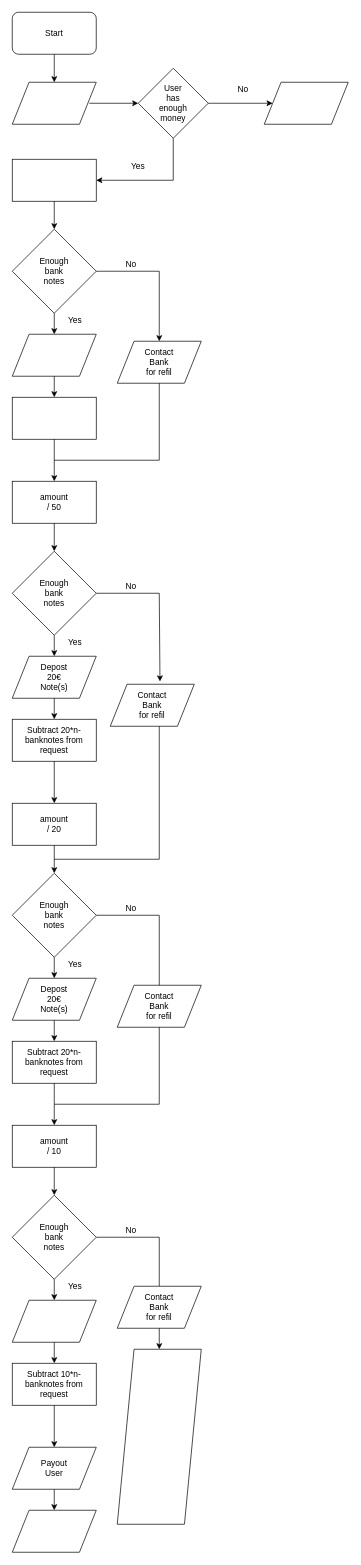
The diagram is 361 pixels wide and 1565 high, and some of its shapes have lost their labels. Here are the shapes that lost their labels. From the top down, the box of each, then its label:
(12, 82, 96, 124): How much money?
(264, 82, 348, 124): Deny User
(12, 159, 96, 201): amount / 100
(12, 334, 96, 376): Depost 100€ Note(s)
(12, 397, 96, 439): Subtract 100*n-banknotes from request
(12, 1300, 96, 1342): Depost 10€ Note(s)
(117, 1349, 201, 1524): Prompt user to lower amount or leave ATM
(12, 1510, 96, 1552): Debit user account
